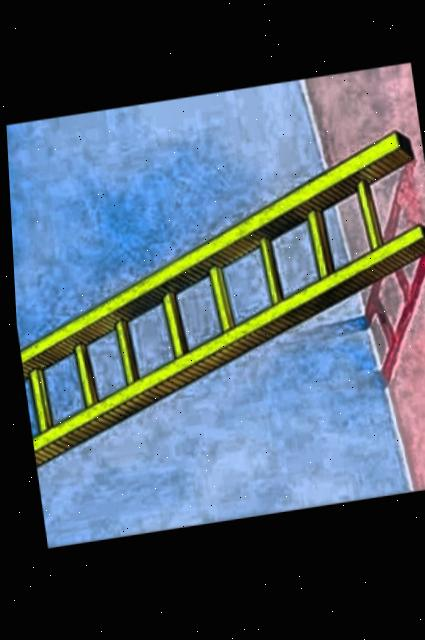La Escalera: (4, 67, 425, 549)
